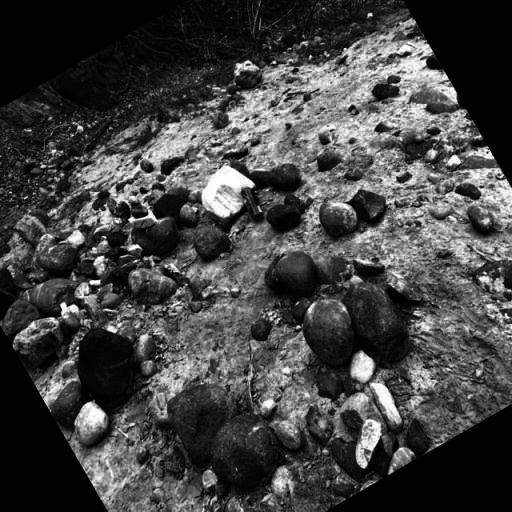bottle: (234, 180, 268, 223)
